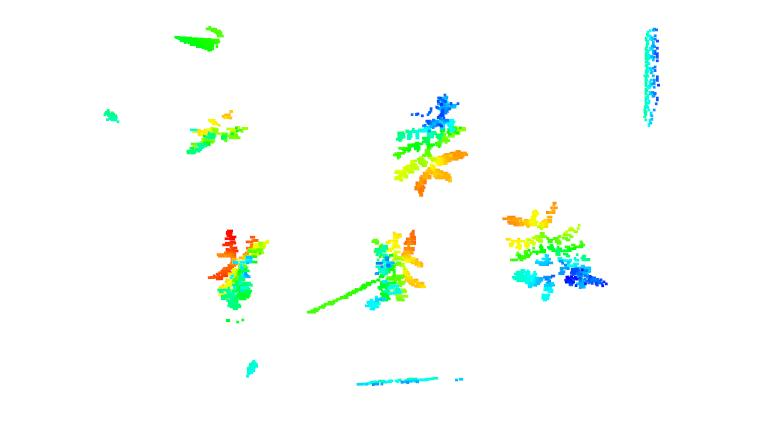chickpea: (502, 201, 610, 301), (389, 91, 468, 195), (207, 224, 271, 313), (361, 228, 426, 310), (182, 108, 251, 155)
